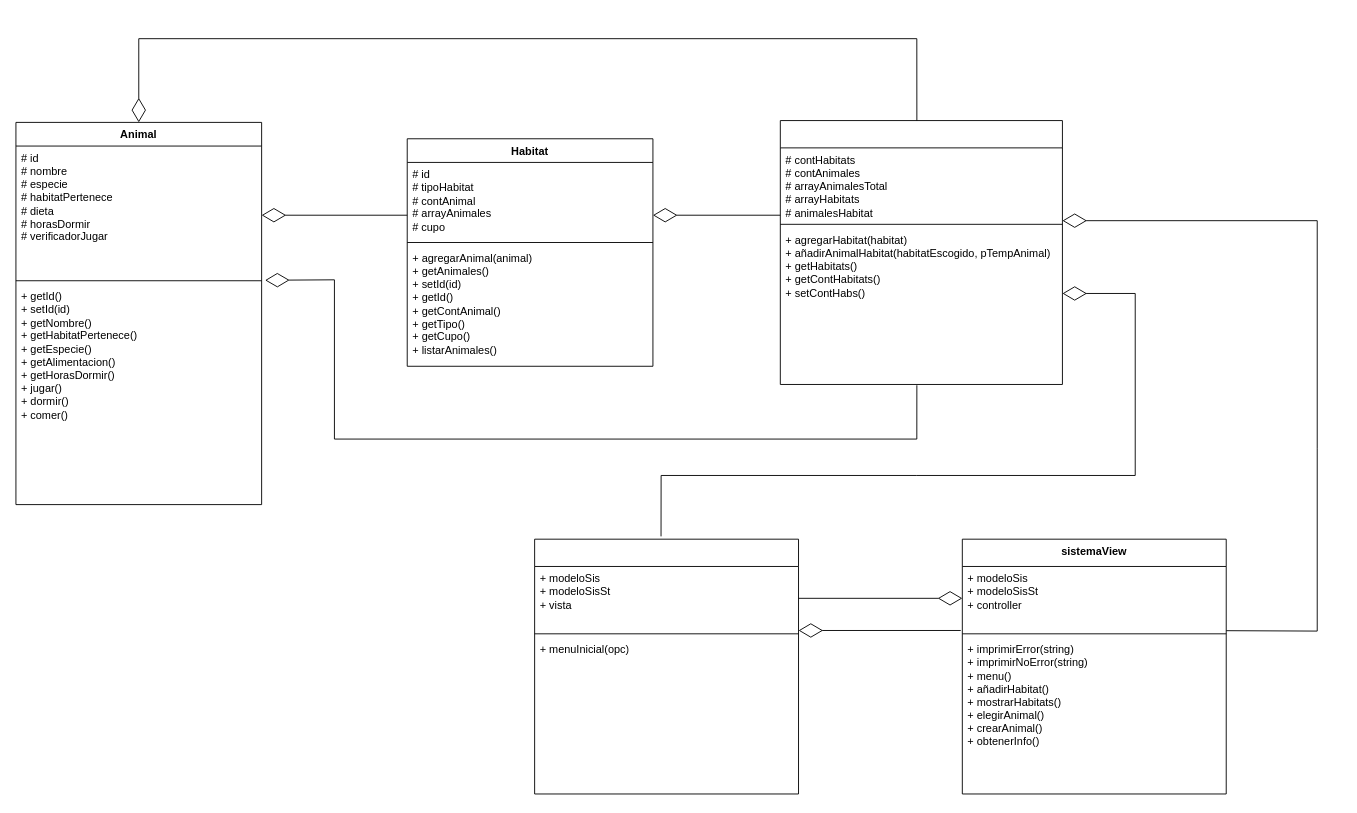
This 1357x813 diagram has some shape labels left out. Each missing label, with the box of its shape:
Sistema: (779, 120, 1062, 384)
sistemaController: (534, 538, 799, 794)
